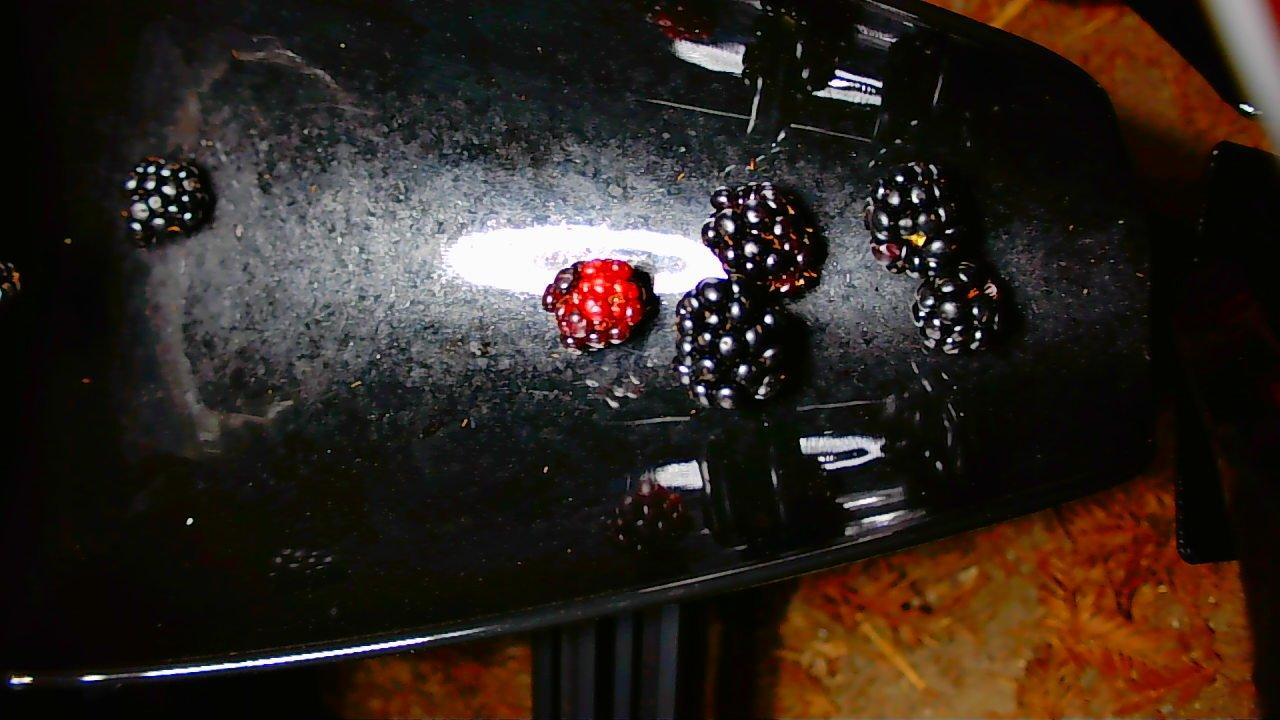berry: (673, 278, 792, 408), (701, 181, 824, 295), (864, 161, 965, 277), (543, 259, 653, 351), (121, 157, 211, 246), (913, 262, 1000, 354)
